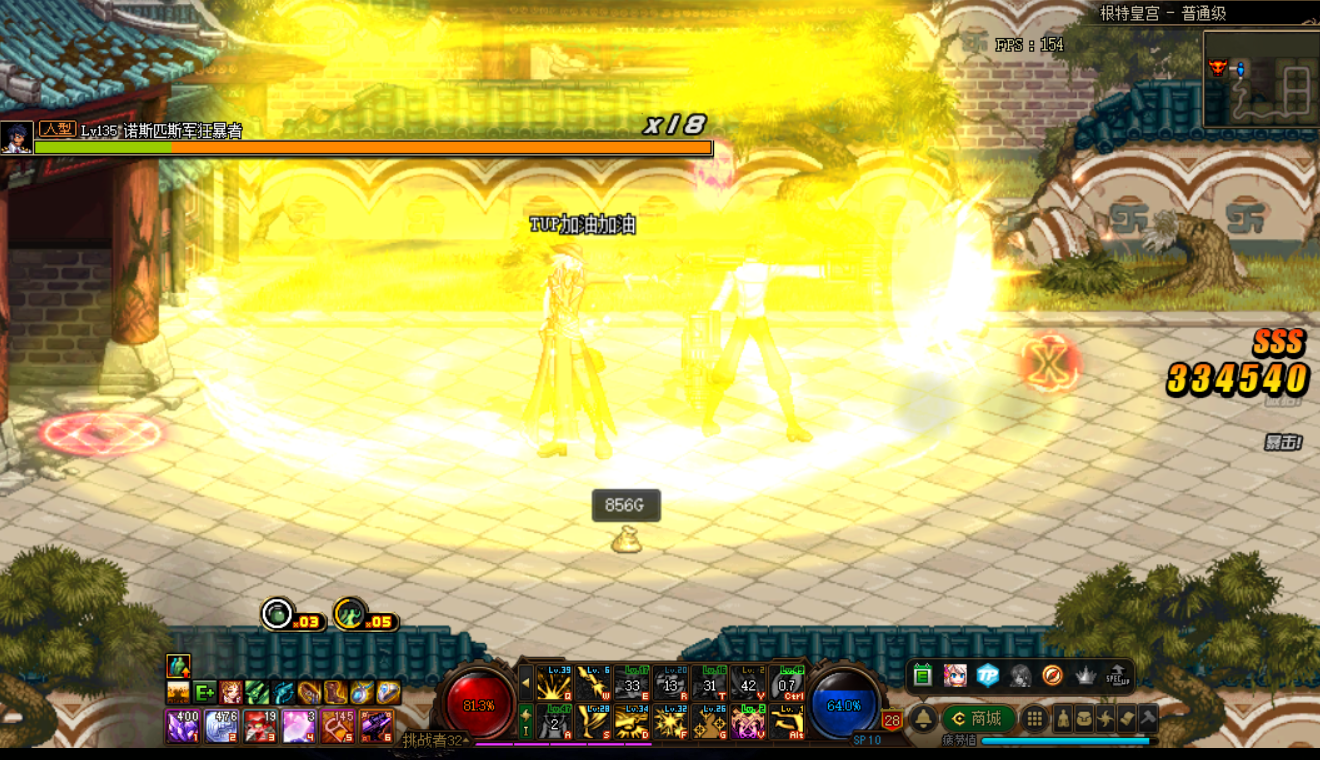monster: (695, 244, 838, 466)
warrior: (521, 236, 654, 463)
